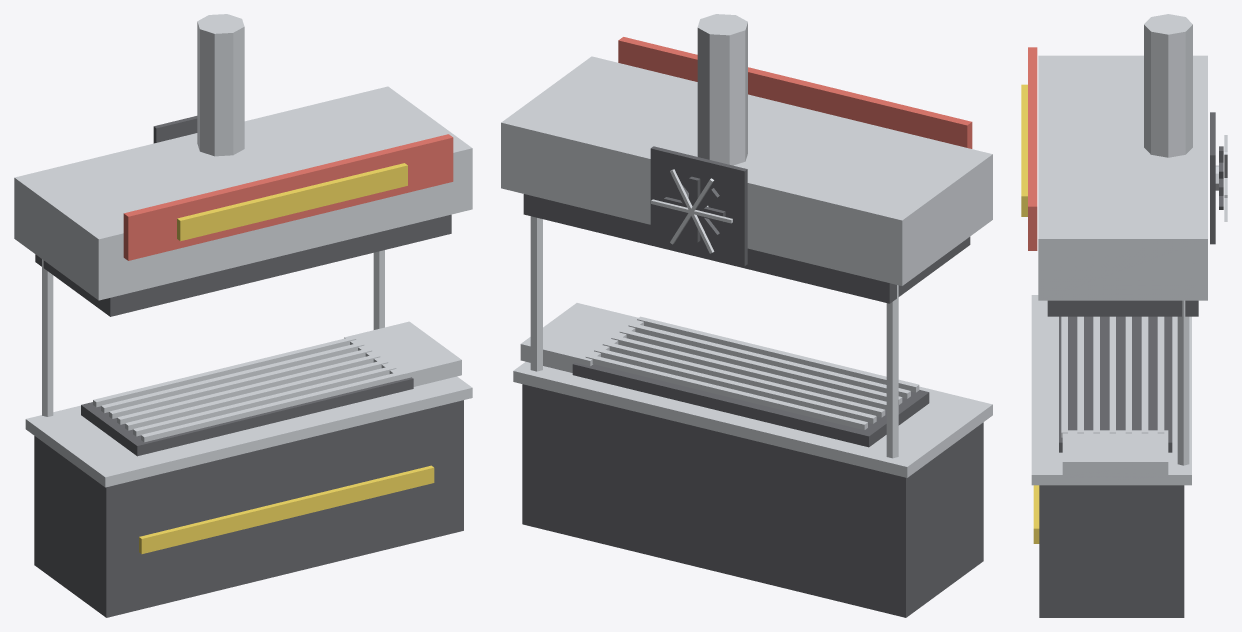
Rendered from grill.glb.
3 views of the same model, side by side, from view 1: azimuth 30°, elevation 25°; view 2: azimuth 150°, elevation 25°; view 3: azimuth 270°, elevation 25° (orthographic). The views are drawn at different scales.
Parts seen in each view (by area): view 1: grill-stall-with-hood-steel, grill-stall-with-hood-charcoal, grill-stall-with-hood-canary, grill-stall-with-hood-scarlet; view 2: grill-stall-with-hood-steel, grill-stall-with-hood-charcoal, grill-stall-with-hood-scarlet, fan/charcoal; view 3: grill-stall-with-hood-steel, grill-stall-with-hood-charcoal, grill-stall-with-hood-scarlet, grill-stall-with-hood-canary, fan/charcoal.
Boxes of the visible parts, <box> form: grill-stall-with-hood-steel: <box>14,14,472,487</box>; grill-stall-with-hood-charcoal: <box>34,116,463,617</box>; grill-stall-with-hood-canary: <box>139,163,434,553</box>; grill-stall-with-hood-scarlet: <box>123,134,453,260</box>; grill-stall-with-hood-steel: <box>501,14,992,477</box>; grill-stall-with-hood-charcoal: <box>522,146,983,617</box>; grill-stall-with-hood-scarlet: <box>618,37,972,148</box>; fan/charcoal: <box>663,176,725,242</box>; grill-stall-with-hood-steel: <box>1031,14,1227,485</box>; grill-stall-with-hood-charcoal: <box>1039,112,1215,617</box>; grill-stall-with-hood-scarlet: <box>1028,47,1037,250</box>; grill-stall-with-hood-canary: <box>1021,84,1039,543</box>; fan/charcoal: <box>1219,146,1223,209</box>.
Bounding box in the file's own units: 2.31 × 2.96 × 1.09.
